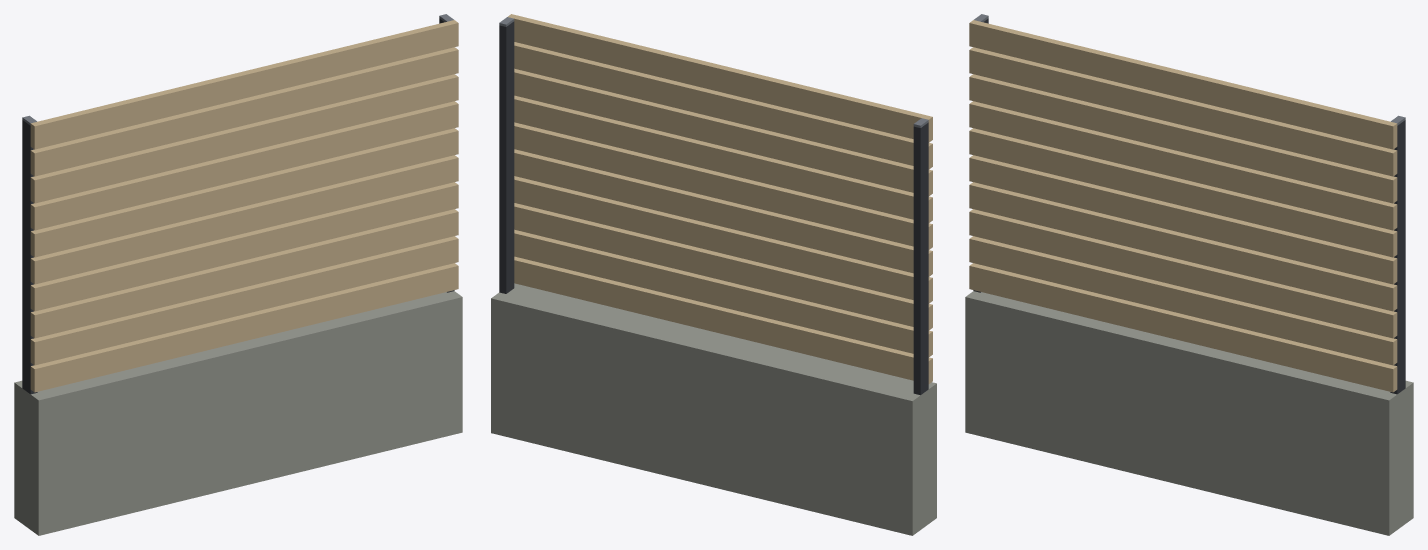
Rendered from fence-w1_close.fbx.
3 renders of one model, left to right at view 1: azimuth 30°, elevation 25°; view 2: azimuth 150°, elevation 25°; view 3: azimuth 330°, elevation 25°, orthographic.
Parts seen in each view (by area): view 1: a2000/800/fence-w1_close; view 2: a2000/800/fence-w1_close; view 3: a2000/800/fence-w1_close.
Boxes of the visible parts, x1=… form: a2000/800/fence-w1_close: x1=14, y1=14, x2=462, y2=535; a2000/800/fence-w1_close: x1=491, y1=14, x2=936, y2=535; a2000/800/fence-w1_close: x1=965, y1=14, x2=1413, y2=535.
Size of the model in its own units: 1.8 by 1.65 by 0.18.
